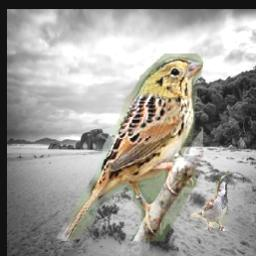Sparrow: (56, 53, 203, 241), (190, 174, 228, 232)
